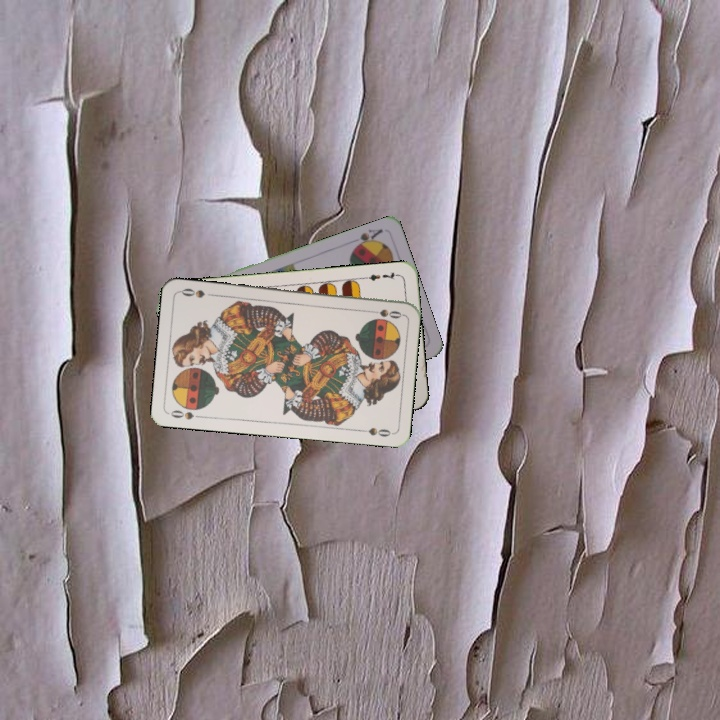E7: (361, 268, 401, 283)
SA: (350, 225, 385, 252)
SO: (364, 305, 404, 321), (167, 406, 206, 422)
